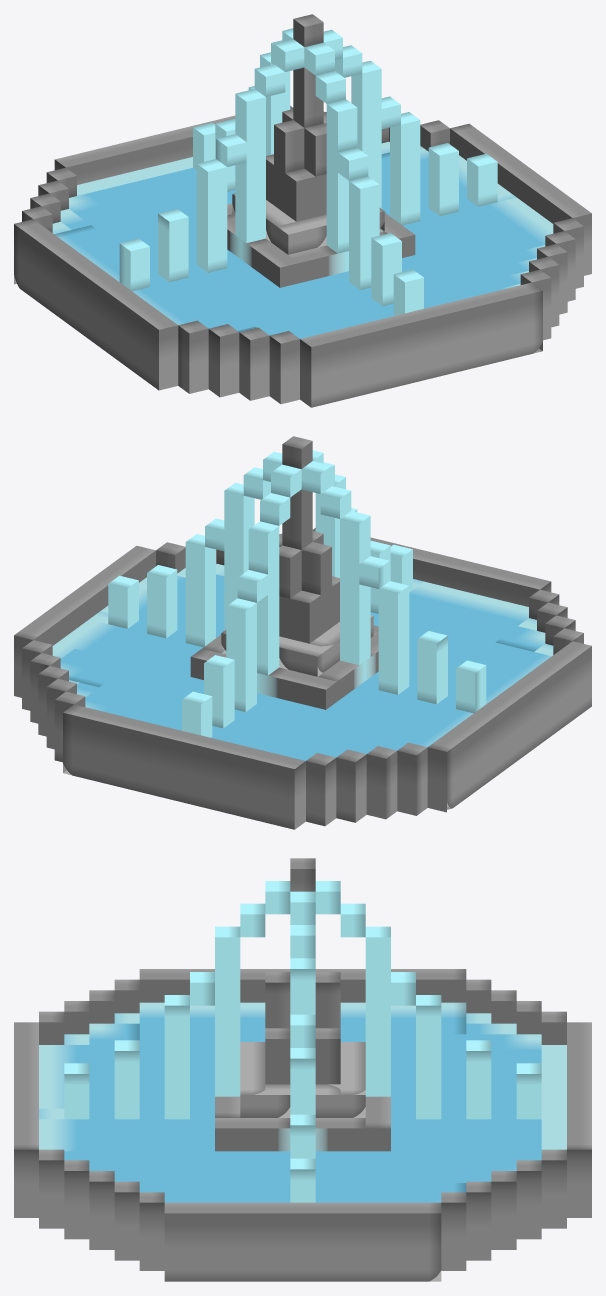
The model's file is Fontain.dae.
The picture shows the model from 3 angles, top to bottom: view 1: azimuth 30°, elevation 25°; view 2: azimuth 150°, elevation 25°; view 3: azimuth 270°, elevation 25°; orthographic projection. The views are drawn at different scales.
Parts seen in each view (by area): view 1: fontanna; view 2: fontanna; view 3: fontanna.
Part boxes in pixels (box(x1,y1,x2,y2)): fontanna: box(14, 14, 591, 407); fontanna: box(14, 436, 591, 829); fontanna: box(14, 858, 591, 1281).
Bounding box in the file's own units: 23 × 13 × 23.
1 material, 1 textured.
